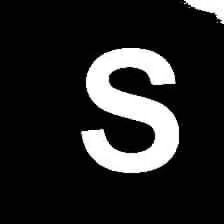LTR_S: (77, 40, 184, 178)
